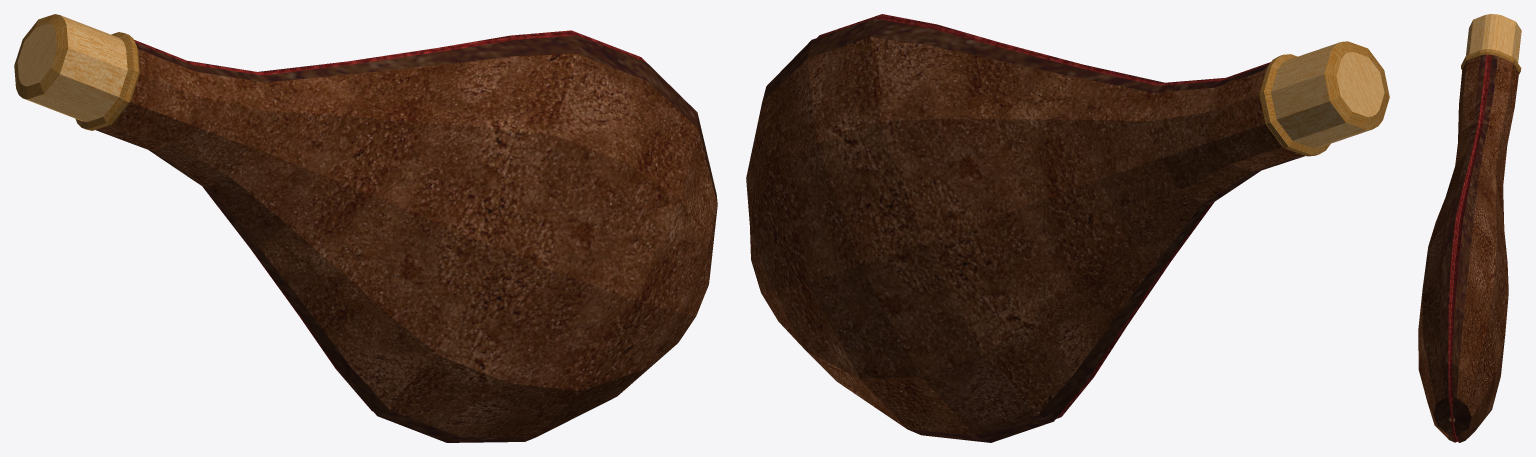
The model's file is SmallWaterskinEmpty.fbx.
3 renders of one model, left to right at view 1: azimuth 30°, elevation 25°; view 2: azimuth 150°, elevation 25°; view 3: azimuth 270°, elevation 25°, orthographic. The views are drawn at different scales.
Visible parts, largest first — view 1: ZomboidSmallWaterskin; view 2: ZomboidSmallWaterskin; view 3: ZomboidSmallWaterskin.
Part boxes in pixels (box(x1,y1,x2,y2)): ZomboidSmallWaterskin: box(14, 14, 717, 442); ZomboidSmallWaterskin: box(746, 14, 1389, 442); ZomboidSmallWaterskin: box(1418, 14, 1521, 442).
Bounding box in the file's own units: 0.1533 × 0.1138 × 0.0359.
